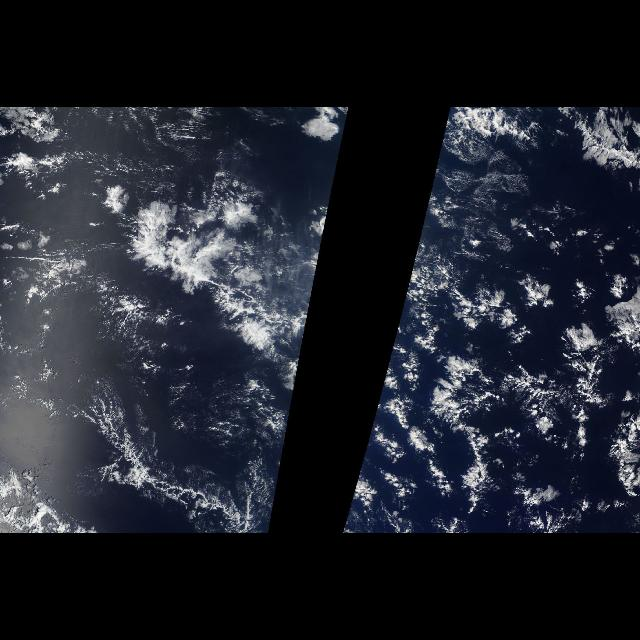Fish: (3, 183, 325, 533)
Flower: (432, 311, 602, 461)
Gravel: (66, 402, 260, 530)
Sugar: (456, 149, 618, 265)
